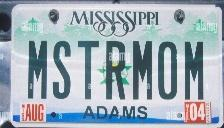0: (157, 40, 178, 102)
M: (25, 39, 49, 101), (131, 40, 154, 102), (183, 40, 205, 102)
R: (104, 39, 131, 102)
S: (51, 39, 73, 100)
T: (76, 39, 101, 102)
